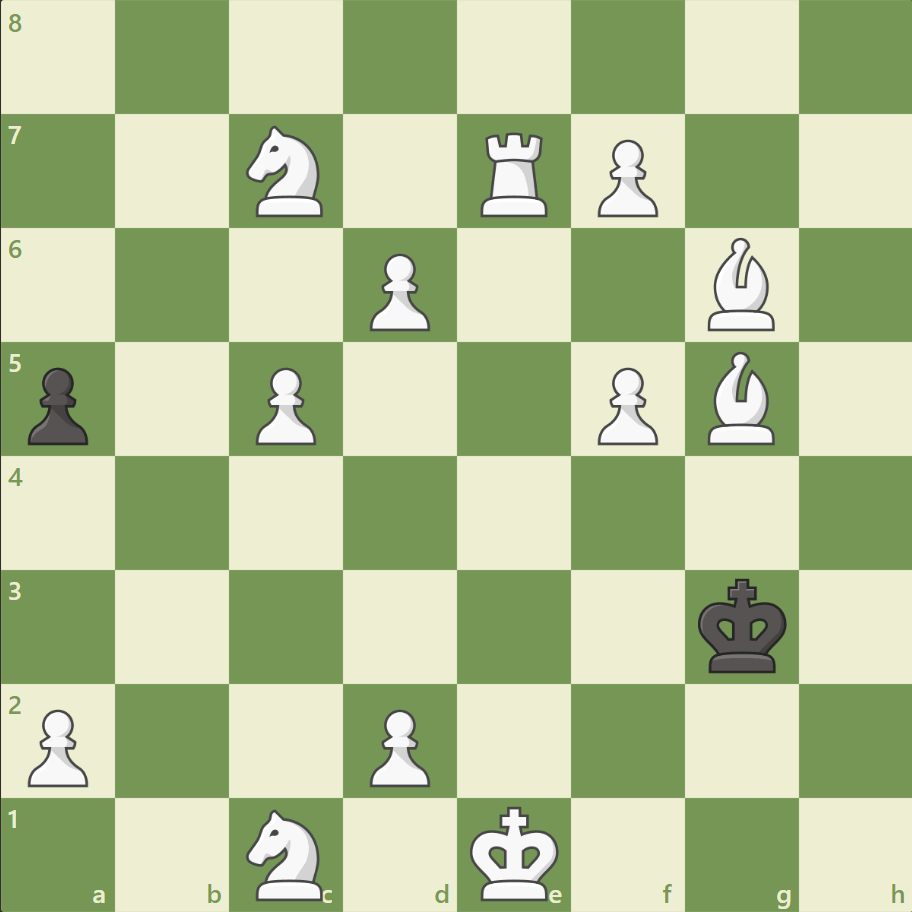B: (698, 233, 782, 336), (698, 347, 782, 449)
K: (465, 798, 565, 906)
N: (238, 121, 335, 223), (238, 802, 335, 904)
P: (247, 359, 322, 450), (20, 700, 95, 791), (588, 132, 662, 223), (361, 246, 435, 337), (588, 359, 662, 450), (361, 700, 435, 791)
R: (473, 125, 556, 222)
k: (692, 571, 792, 679)
p: (20, 359, 95, 450)
